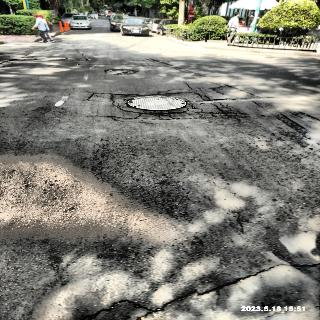alligator-crack: (116, 102, 245, 123)
crack: (76, 259, 319, 320), (88, 88, 181, 97), (184, 81, 215, 101), (108, 94, 122, 109), (76, 49, 88, 61)
pothole: (254, 100, 315, 137)
